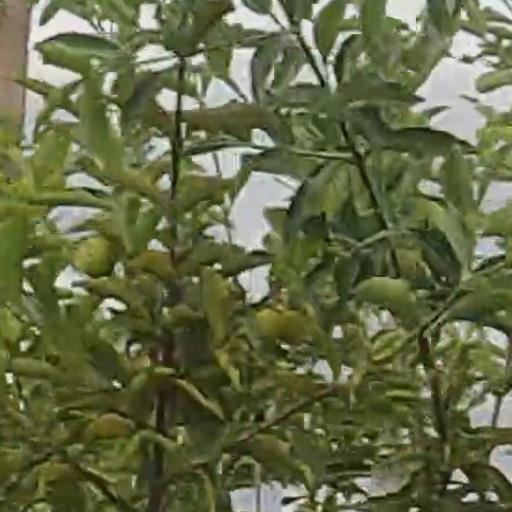acerola_verde: (77, 239, 115, 275), (283, 311, 308, 344), (253, 309, 280, 339)
